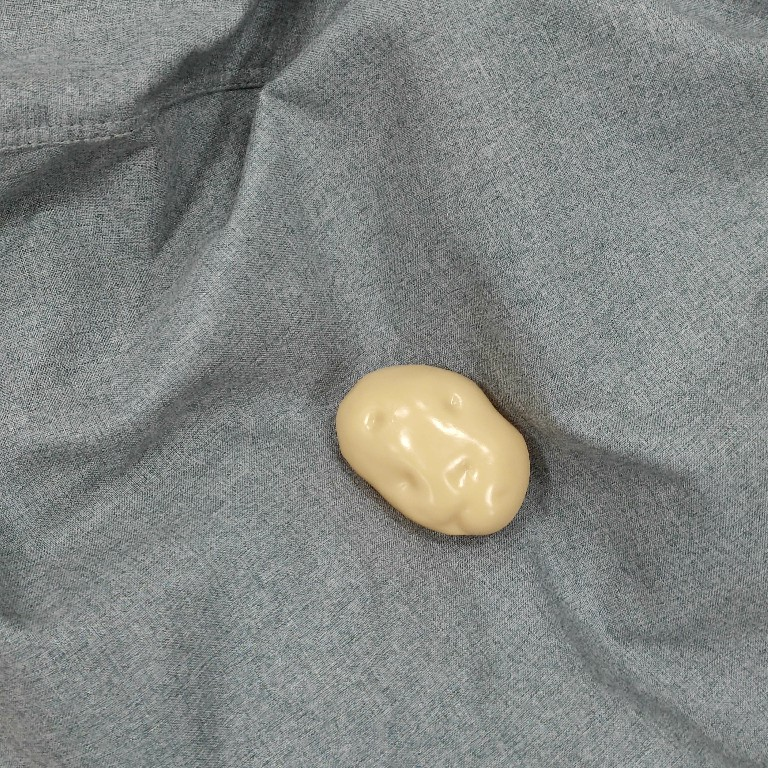fruit_potato: (332, 361, 535, 539)
